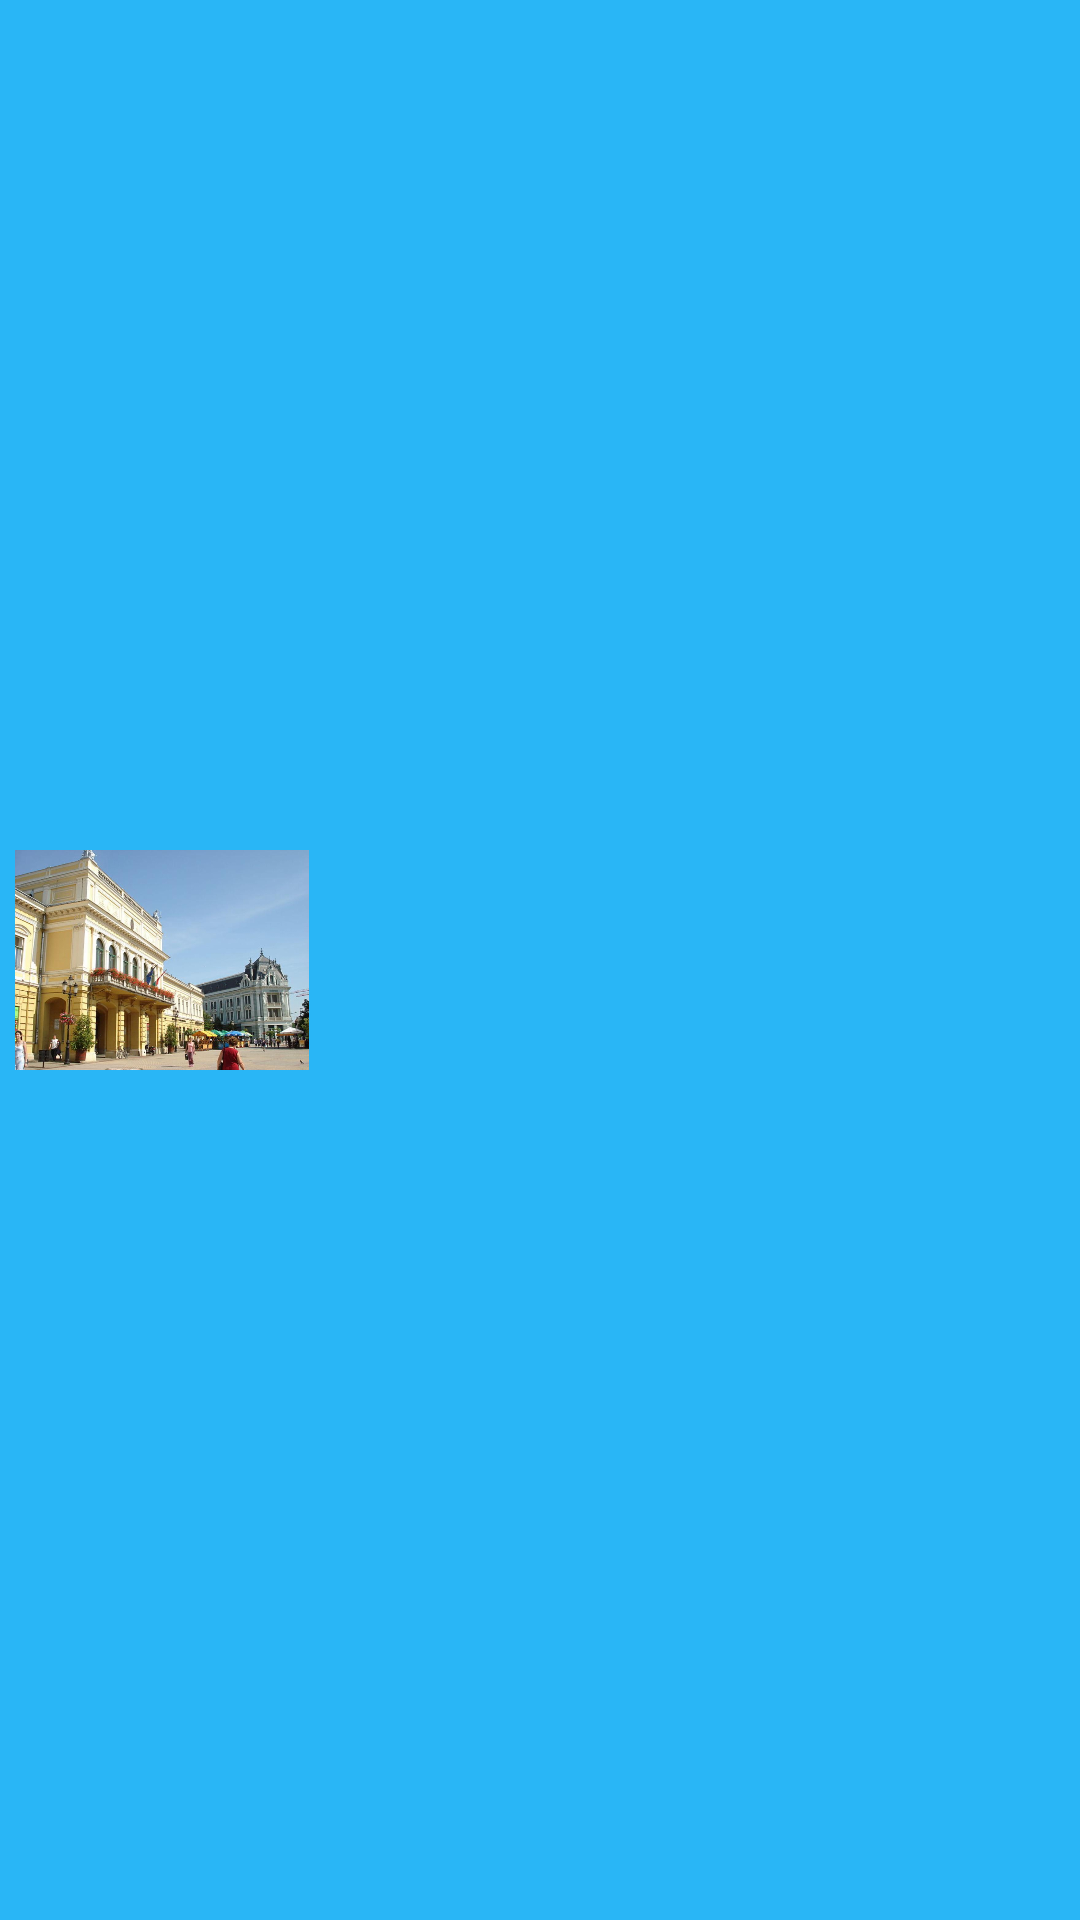

Icon click points for this 1080 x 1920 phone screenshot, format [x,y]:
nyiregyhaza: [162,960]
